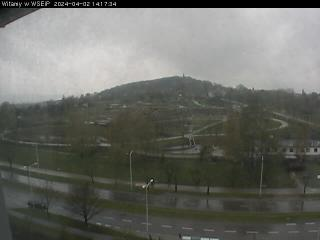car: (27, 196, 48, 210)
